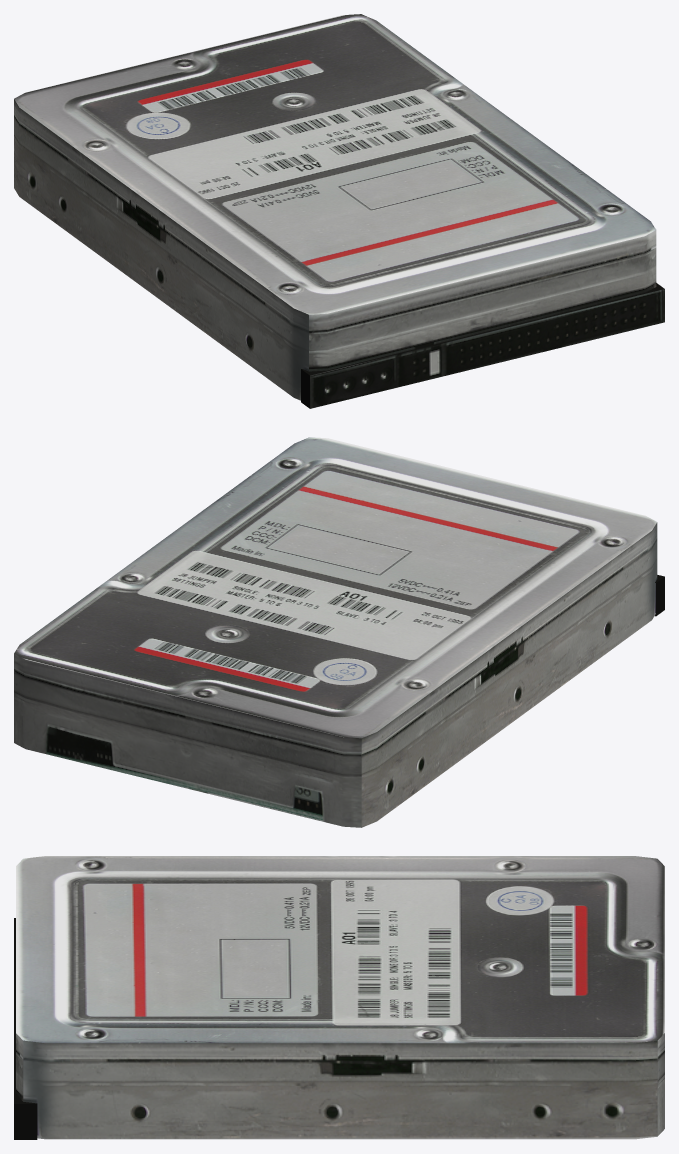
3 views of the same model, one above another, from view 1: azimuth 30°, elevation 25°; view 2: azimuth 150°, elevation 25°; view 3: azimuth 270°, elevation 25° (orthographic). The views are drawn at different scales.
Visible parts, largest first — view 1: Hard Disk; view 2: Hard Disk; view 3: Hard Disk.
Boxes of the visible parts, x1,y1,x2,y2 form: Hard Disk: (14, 14, 664, 408); Hard Disk: (14, 437, 664, 827); Hard Disk: (14, 856, 664, 1139).
Size of the model in its own units: 206 by 49.8 by 303.
Materials: 1 (1 with a texture image).
